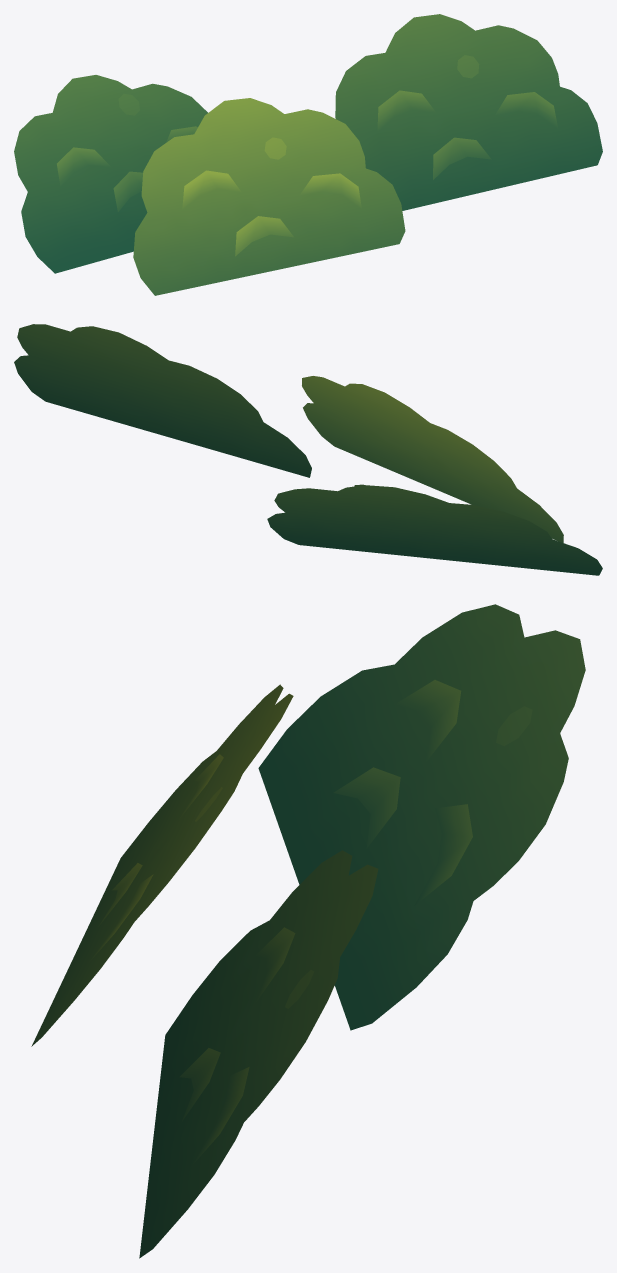
The model's file is Bushes.fbx.
3 views of the same model, one above another, from view 1: azimuth 30°, elevation 25°; view 2: azimuth 150°, elevation 25°; view 3: azimuth 270°, elevation 25° (orthographic). The views are drawn at different scales.
Parts seen in each view (by area): view 1: Bushes; view 2: Bushes; view 3: Bushes.
Boxes of the visible parts, x1,y1,x2,y2 form: Bushes: [14, 14, 602, 295]; Bushes: [14, 324, 602, 575]; Bushes: [31, 604, 585, 1258].
Size of the model in its own units: 399 by 109 by 178.
